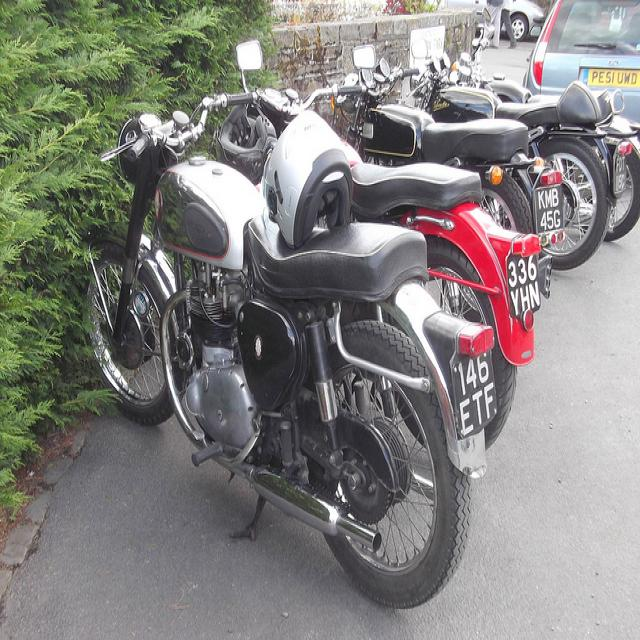motor: (89, 88, 501, 613), (234, 38, 542, 430), (338, 61, 569, 308), (397, 54, 614, 268), (444, 22, 640, 241)
